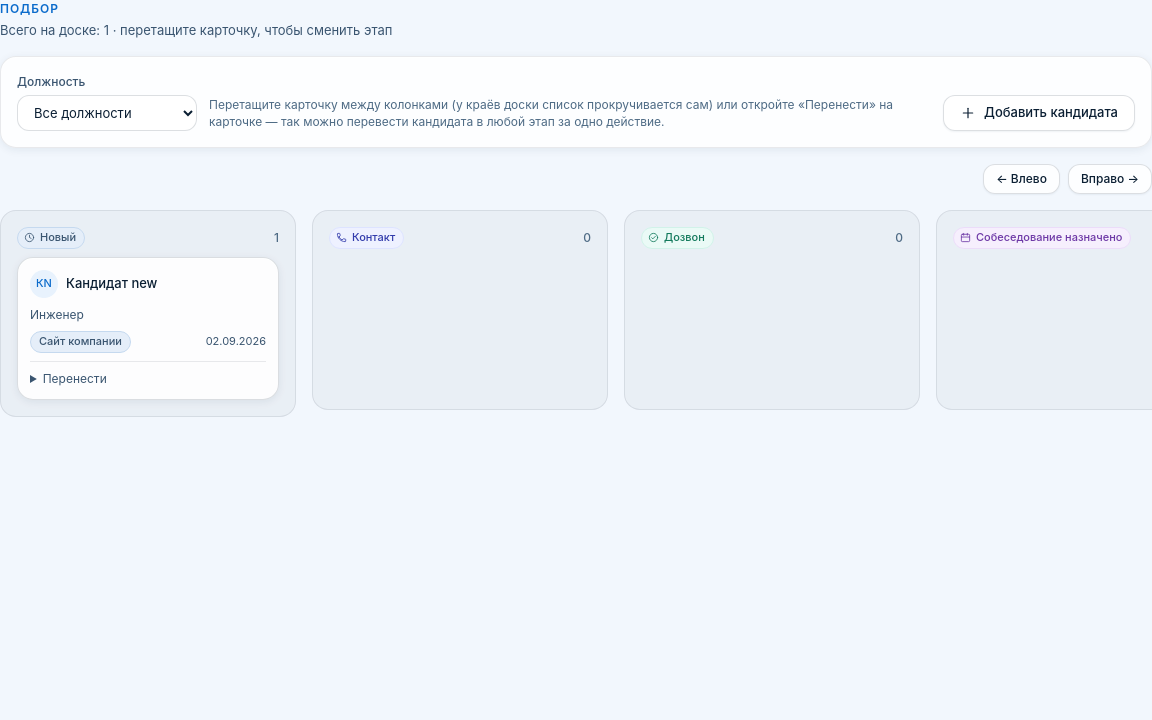
Test: KanbanPage › shows the server error in the date dialog and keeps the card in place
Expected: the text "Кандидат new" is shown, [66,274,157,293]
Click the heading "Перенести" at [75, 378], box [43,371,107,386]
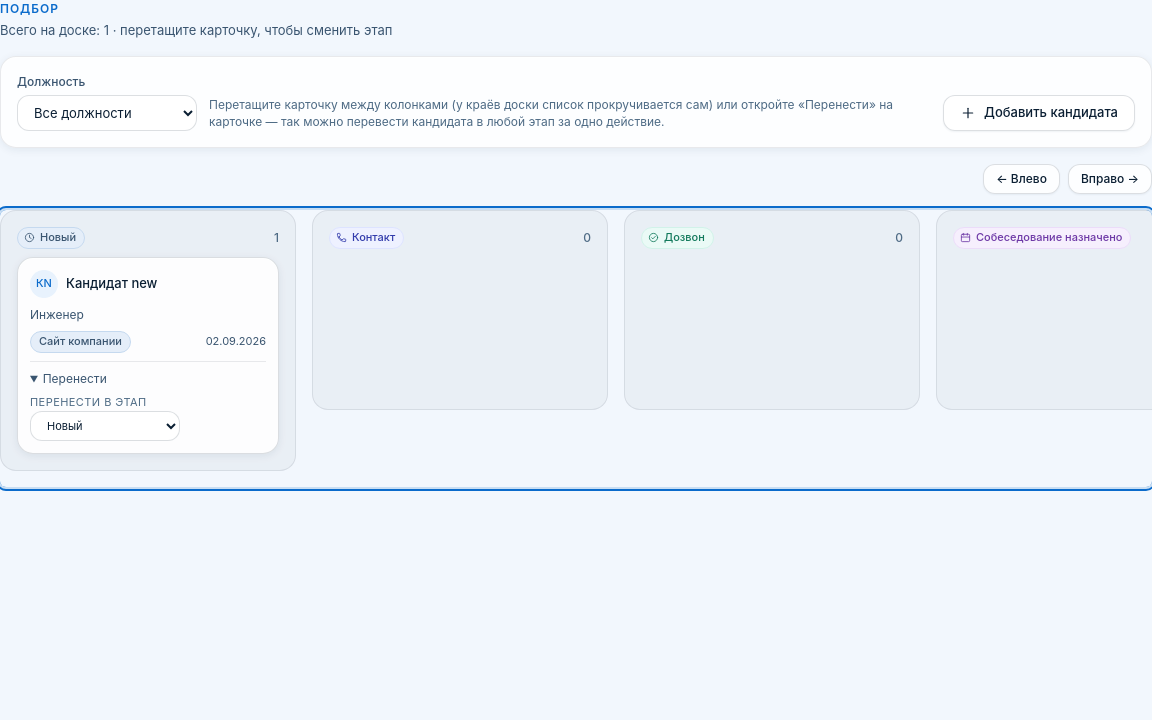
Select "Вышел" in the dropdown named "Изменить этап: Кандидат new" at [105, 426], box [30,411,180,441]
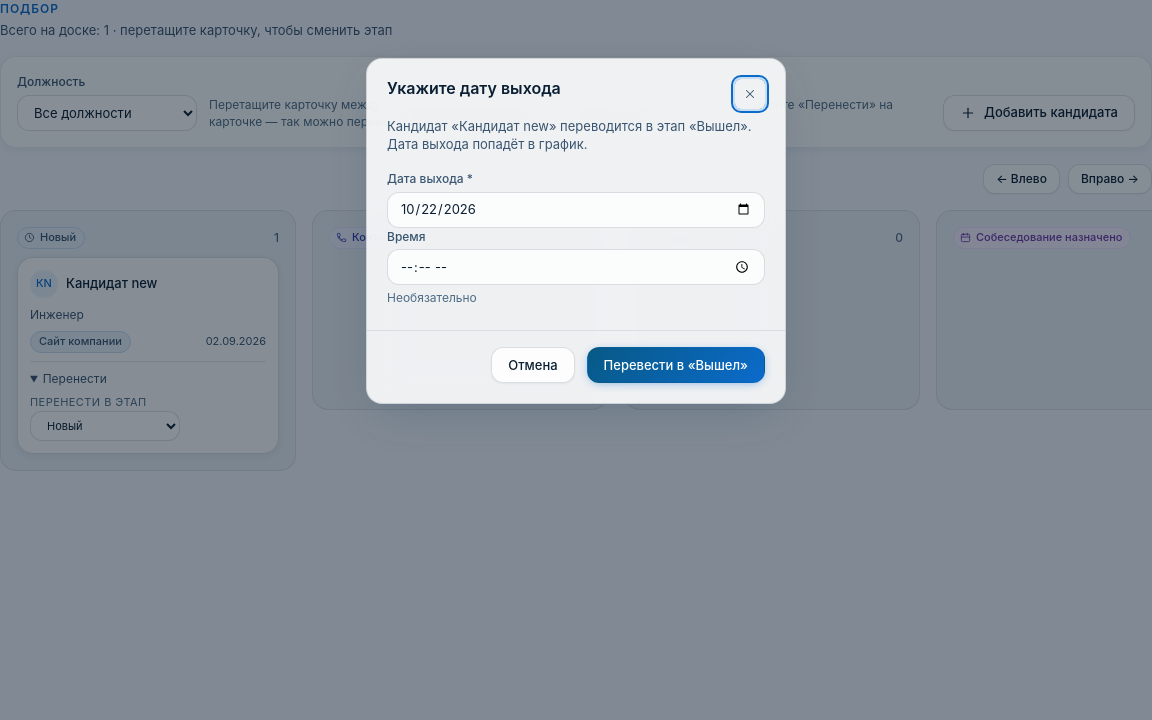
Expected: the dialog "Укажите дату выхода" is shown, [366,58,786,404]
Click the button "Перевести в «Вышел»" at [676, 366], box [587,348,765,384]
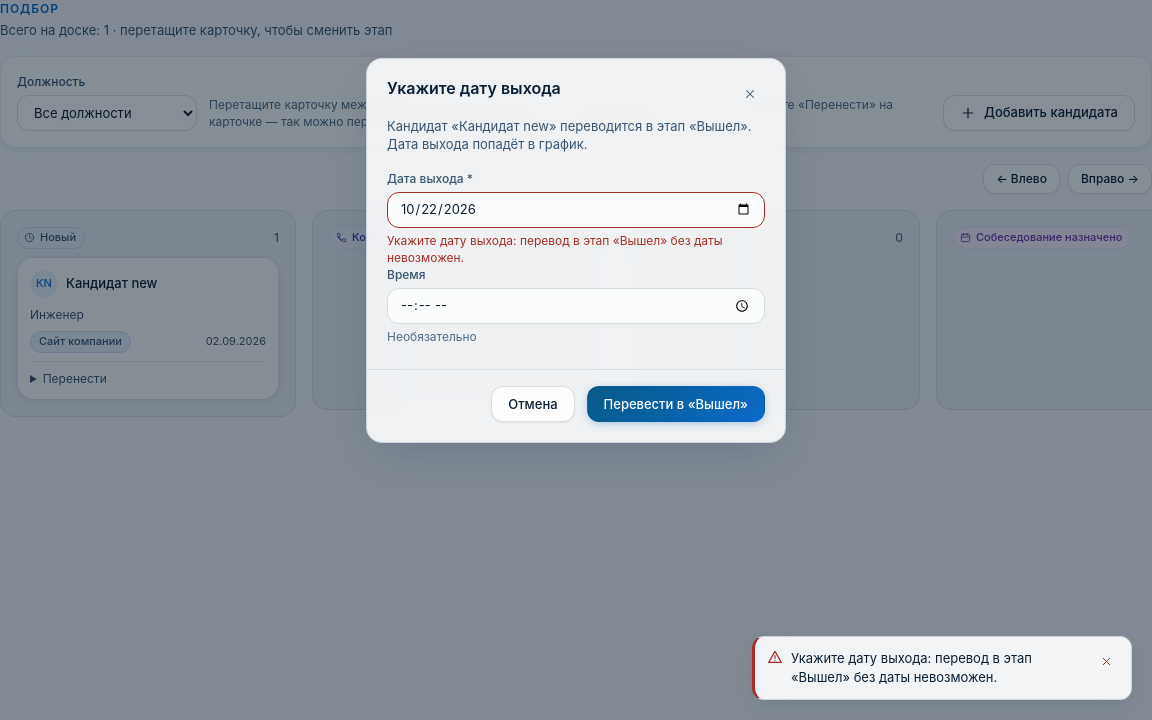
Expected: the text "Кандидат new" is shown, [66,274,157,293]
Expected: the 1st text "Укажите дату выхода: перевод в этап «Вышел» без даты невозможен." is shown, [387,232,765,266]
